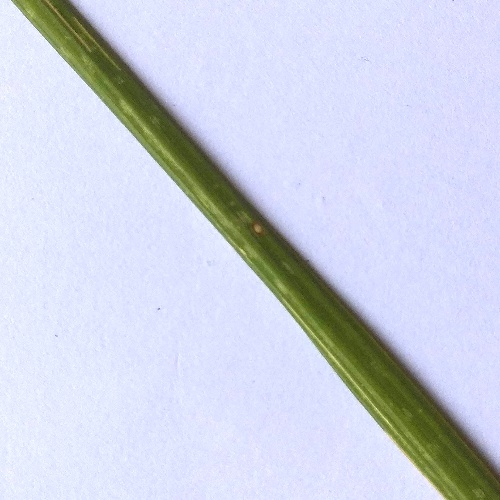Busuk Leher: (249, 210, 272, 243)
